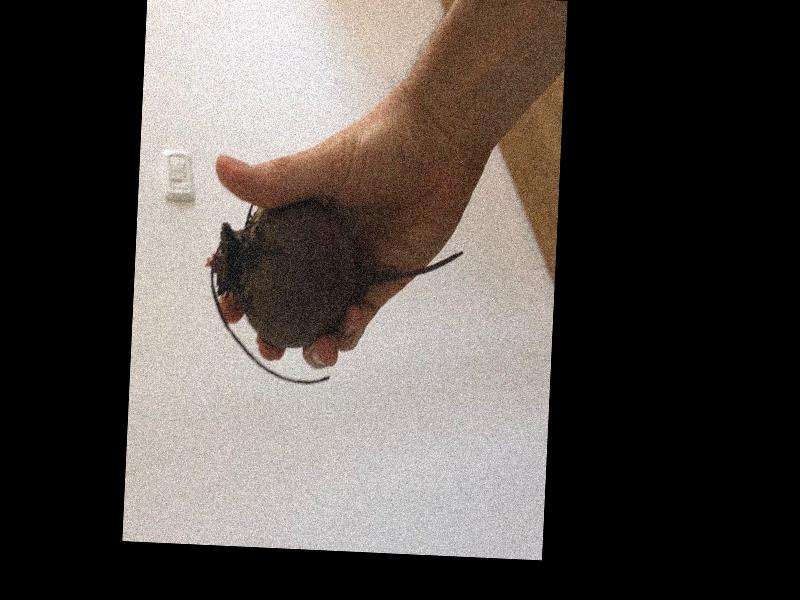Beet: (201, 200, 464, 392)
